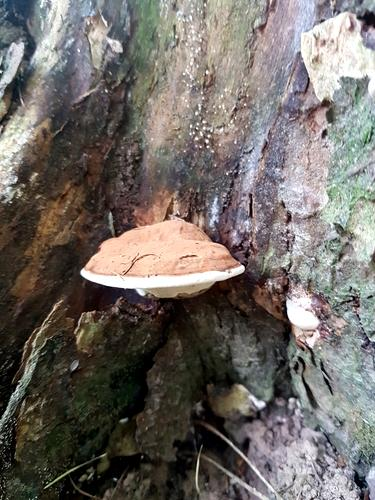Ganoderma - Fruit Body: (79, 216, 243, 302), (281, 289, 330, 334)
